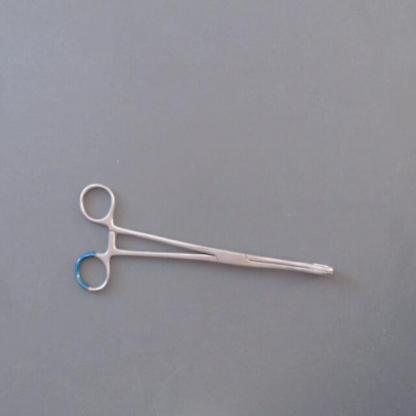Sponge Forceps: (69, 175, 343, 304)
